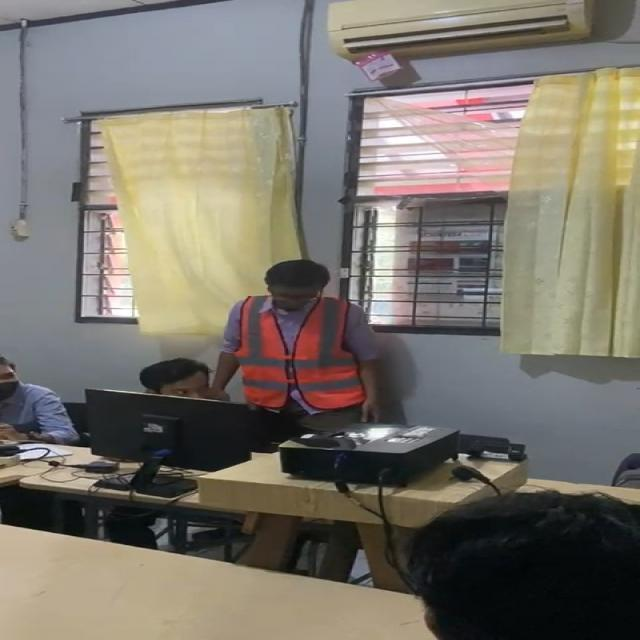no-helmet: (132, 352, 214, 398), (260, 258, 332, 306)
vest: (234, 307, 372, 410)
